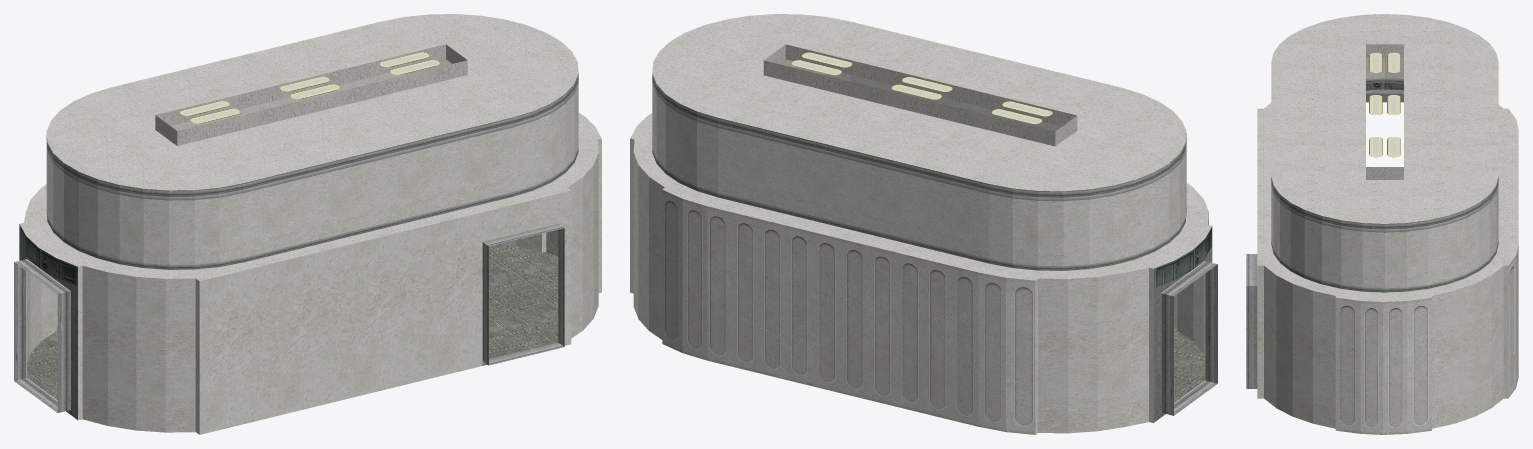
Rendered from ply_all_house_m_s01_fp1_r1_public_mesh.fbx.
The picture shows the model from 3 angles, left to right: view 1: azimuth 30°, elevation 25°; view 2: azimuth 150°, elevation 25°; view 3: azimuth 270°, elevation 25°; orthographic projection. The views are drawn at different scales.
Visible parts, largest first — view 1: mesh_node; view 2: mesh_node; view 3: mesh_node.
Part boxes in pixels (left/top/right/bottom): mesh_node: left=14, top=14, right=601, bottom=434; mesh_node: left=630, top=14, right=1217, bottom=434; mesh_node: left=1246, top=14, right=1518, bottom=434.
Bounding box in the file's own units: 14.43 × 6.25 × 7.2.
